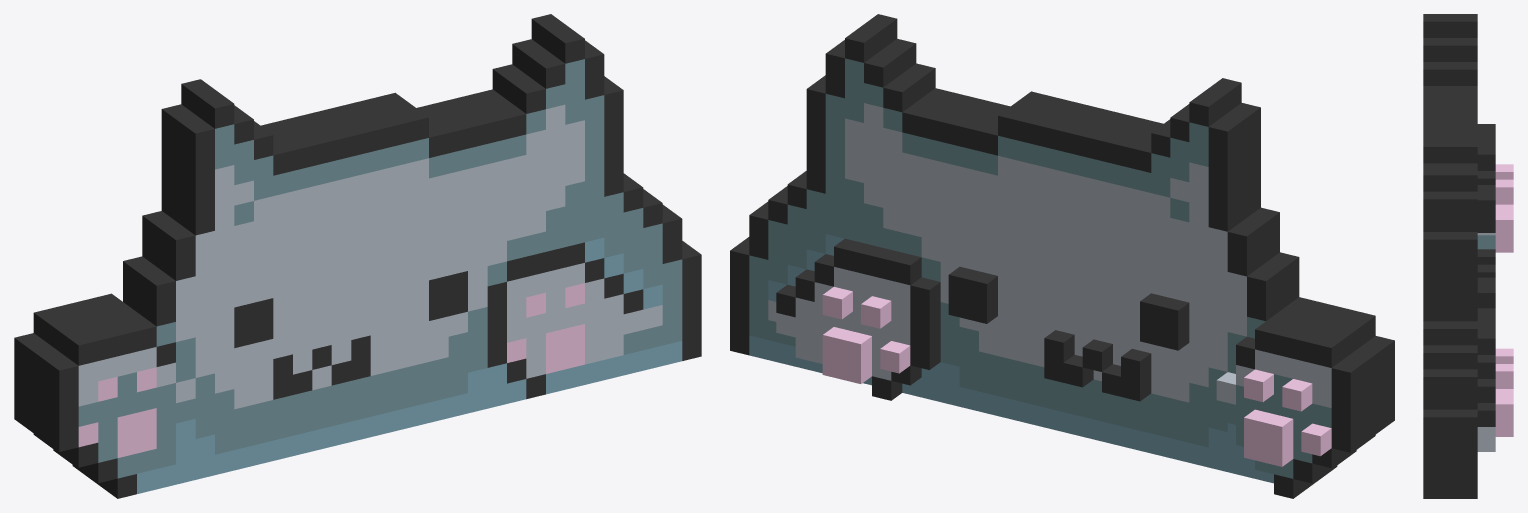
File: bongo-cat.gltf
3 views of the same model, side by side, from view 1: azimuth 30°, elevation 25°; view 2: azimuth 150°, elevation 25°; view 3: azimuth 270°, elevation 25° (orthographic). The views are drawn at different scales.
Visible parts, largest first — view 1: node 1; view 2: node 1; view 3: node 1.
Boxes of the visible parts, left/top/right/bottom form: node 1: left=14, top=14, right=701, bottom=498; node 1: left=730, top=14, right=1394, bottom=498; node 1: left=1423, top=14, right=1513, bottom=498.
Size of the model in its own units: 33 by 18 by 5.
Materials: 1 (1 with a texture image).
